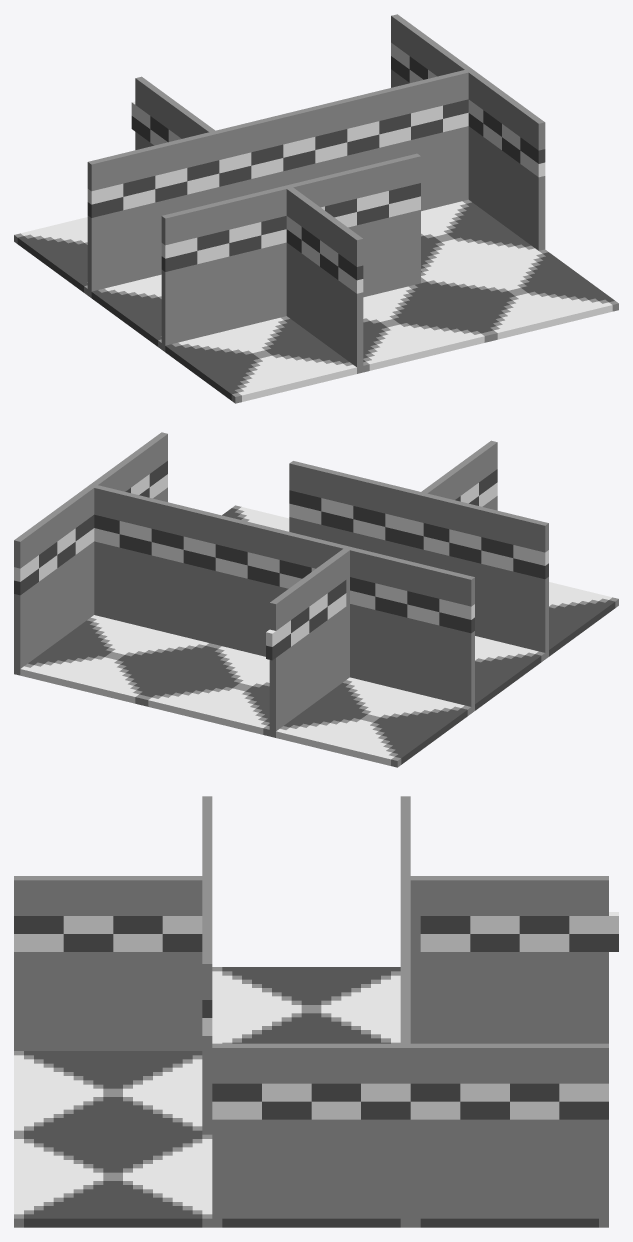
The model's file is level_maze-23.obj.
3 views of the same model, one above another, from view 1: azimuth 30°, elevation 25°; view 2: azimuth 150°, elevation 25°; view 3: azimuth 270°, elevation 25° (orthographic). The views are drawn at different scales.
Parts seen in each view (by area): view 1: level_maze-23; view 2: level_maze-23; view 3: level_maze-23.
Part boxes in pixels (x1=…): level_maze-23: x1=14, y1=14, x2=618, y2=403; level_maze-23: x1=14, y1=432, x2=618, y2=767; level_maze-23: x1=14, y1=796, x2=618, y2=1227.
Size of the model in its own units: 60 by 20 by 61.
1 material, 1 textured.
